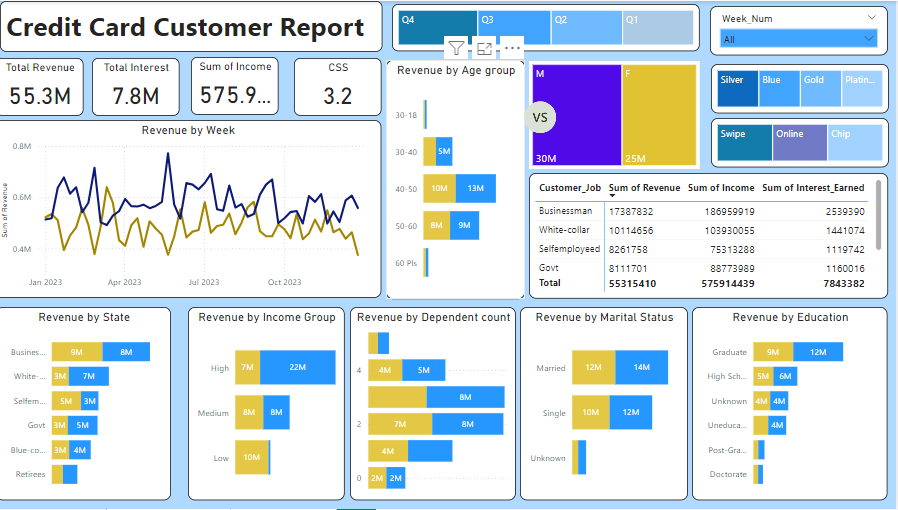

Layout of this report page (visuals, bound fields, positions):
{"tool":"powerbi","page":{"name":"cc costomer","canvas":[1280,720],"ordinal":1},"visuals":[{"type":"barChart","title":"Revenue by Income Group","fields":{"Y":["Sum(credit_card (1).Revenue)"],"Category":["ccdb cust_detail.Income_Group"],"Series":["ccdb cust_detail.Gender"]},"box":[277.3,433.5,221.8,274.4],"z":0},{"type":"pivotTable","fields":{"Values":["Sum(credit_card (1).Revenue)","Sum(ccdb cust_detail.Income)","Sum(credit_card (1).Interest_Earned)"],"Rows":["ccdb cust_detail.Customer_Job"]},"box":[760.4,243.7,509.4,178.1],"z":1000},{"type":"slicer","fields":{"Values":["credit_card (1).Week_Num"]},"box":[1017.3,7.3,252.5,70],"z":2000},{"type":"treemap","fields":{"Group":["credit_card (1).Card_Category"],"Values":["Avg(ccdb cust_detail.Client_Num)"]},"box":[1018.7,89,252.5,70.1],"z":3000},{"type":"textbox","box":[10.8,0,541.6,72.2],"z":4000},{"type":"card","title":"Total Revenue","fields":{"Values":["Sum(credit_card (1).Revenue)"]},"box":[5.8,80.3,124.1,81.7],"z":5000},{"type":"card","title":"Total Interest","fields":{"Values":["Sum(credit_card (1).Interest_Earned)"]},"box":[141.6,80.3,124.1,81.7],"z":6000},{"type":"card","title":"Sum of Income","fields":{"Values":["Sum(ccdb cust_detail.Income)"]},"box":[281.7,78.8,124,82],"z":7000},{"type":"card","title":"CSS","fields":{"Values":["Avg(ccdb cust_detail.Cust_Satisfaction_Score)"]},"box":[427.6,80.3,124.1,81.7],"z":8000},{"type":"treemap","fields":{"Group":["credit_card (1).Qtr"],"Values":["Avg(ccdb cust_detail.Client_Num)"]},"box":[566.3,4.4,436.4,67.1],"z":9000},{"type":"lineChart","title":"Revenue by Week","fields":{"Y":["Sum(credit_card (1).Revenue)"],"Series":["ccdb cust_detail.Gender"],"Category":["credit_card (1).Week_Start_Date.Variation.Date Hierarchy.Year","credit_card (1).Week_Start_Date.Variation.Date Hierarchy.Month","credit_card (1).Week_Start_Date.Variation.Date Hierarchy.Day"]},"box":[2.9,169.3,548.8,252.5],"z":10000},{"type":"treemap","fields":{"Group":["ccdb cust_detail.Gender"],"Values":["Sum(credit_card (1).Revenue)"]},"box":[760.4,84.7,242.3,153.2],"z":11000},{"type":"barChart","title":"Revenue by Age group","fields":{"Y":["Sum(credit_card (1).Revenue)"],"Category":["ccdb cust_detail.Agr_Group"],"Series":["ccdb cust_detail.Gender"]},"box":[559,83.2,197,338.6],"z":12000},{"type":"barChart","title":"Revenue by Marital Status","fields":{"Y":["Sum(credit_card (1).Revenue)"],"Category":["ccdb cust_detail.Marital_Status"],"Series":["ccdb cust_detail.Gender"]},"box":[748.7,433.5,237.9,274.4],"z":13000},{"type":"barChart","title":"Revenue by Education","fields":{"Y":["Sum(credit_card (1).Revenue)"],"Category":["ccdb cust_detail.Education_Level"],"Series":["ccdb cust_detail.Gender"]},"box":[992.5,433.5,277.3,274.4],"z":14000},{"type":"barChart","title":"Revenue by State","fields":{"Y":["Sum(credit_card (1).Revenue)"],"Category":["ccdb cust_detail.Customer_Job"],"Series":["ccdb cust_detail.Gender"]},"box":[5.8,433.5,248.1,274.4],"z":15000},{"type":"barChart","title":"Revenue by Dependent count","fields":{"Y":["Sum(credit_card (1).Revenue)"],"Category":["ccdb cust_detail.Dependent_Count"],"Series":["ccdb cust_detail.Gender"]},"box":[507.9,433.5,235,274.4],"z":16000},{"type":"treemap","fields":{"Group":["credit_card (1).Use Chip"],"Values":["Avg(ccdb cust_detail.Client_Num)"]},"box":[1018.7,166.4,252.5,70.1],"z":17000}]}

Visuals, with their boxes in screenshot pixels (x1, y1, x2, y2), scaled from the page's 1280x720 canvas onto the 898x510 screenshot:
"Revenue by Income Group" barChart: locate(195, 307, 350, 501)
pivotTable - Sum(credit_card (1).Revenue) x Sum(ccdb cust_detail.Income): locate(533, 173, 891, 299)
slicer - credit_card (1).Week_Num: locate(714, 5, 891, 55)
treemap - credit_card (1).Card_Category x Avg(ccdb cust_detail.Client_Num): locate(715, 63, 892, 113)
textbox: locate(8, 0, 388, 51)
"Total Revenue" card: locate(4, 57, 91, 115)
"Total Interest" card: locate(99, 57, 186, 115)
"Sum of Income" card: locate(198, 56, 285, 114)
"CSS" card: locate(300, 57, 387, 115)
treemap - credit_card (1).Qtr x Avg(ccdb cust_detail.Client_Num): locate(397, 3, 703, 51)
"Revenue by Week" lineChart: locate(2, 120, 387, 299)
treemap - ccdb cust_detail.Gender x Sum(credit_card (1).Revenue): locate(533, 60, 703, 169)
"Revenue by Age group" barChart: locate(392, 59, 530, 299)
"Revenue by Marital Status" barChart: locate(525, 307, 692, 501)
"Revenue by Education" barChart: locate(696, 307, 891, 501)
"Revenue by State" barChart: locate(4, 307, 178, 501)
"Revenue by Dependent count" barChart: locate(356, 307, 521, 501)
treemap - credit_card (1).Use Chip x Avg(ccdb cust_detail.Client_Num): locate(715, 118, 892, 168)
